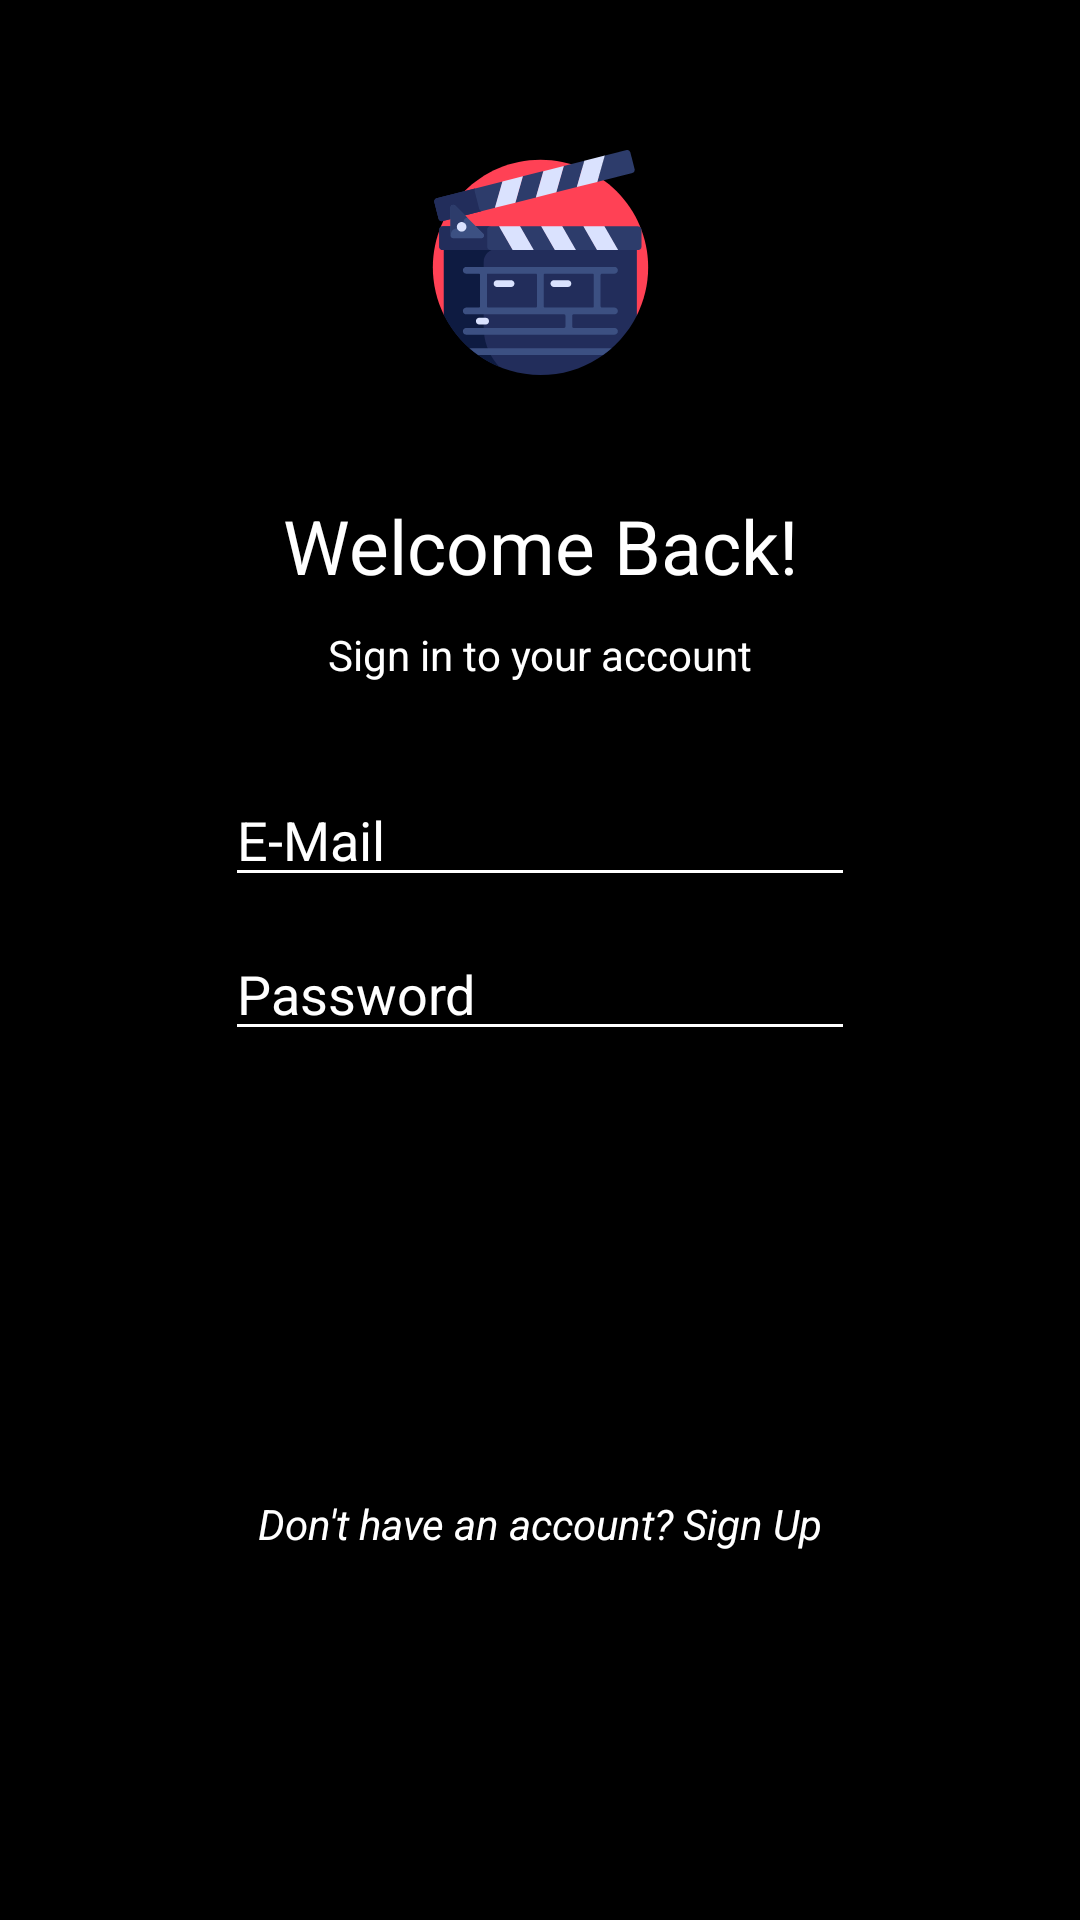

Point at icon controls on the screen. Image size 1080px×1920px, points as (x=x, y=y).
clapperboard: (x=540, y=262)
